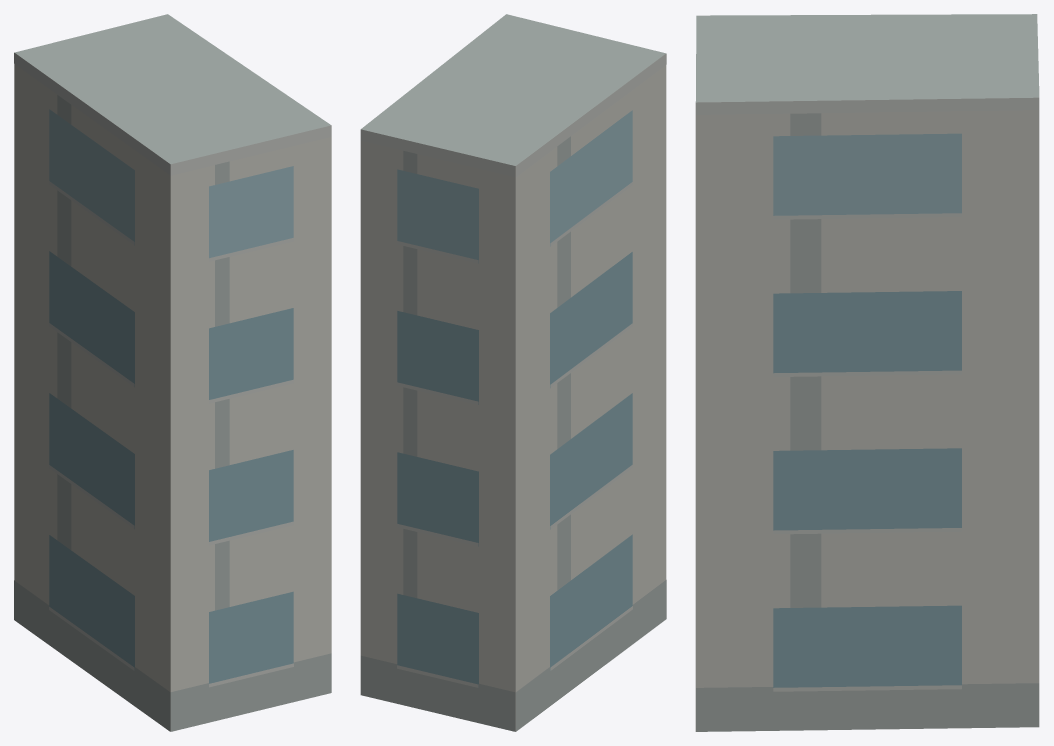
Rendered from survey-upis-32623372.glb.
3 renders of one model, left to right at view 1: azimuth 30°, elevation 25°; view 2: azimuth 150°, elevation 25°; view 3: azimuth 270°, elevation 25°, orthographic. The views are drawn at different scales.
Visible parts, largest first — view 1: survey-upis-32623372.tmp; view 2: survey-upis-32623372.tmp; view 3: survey-upis-32623372.tmp.
Boxes of the visible parts, x1,y1,x2,y2 form: survey-upis-32623372.tmp: (14, 14, 331, 731); survey-upis-32623372.tmp: (360, 14, 666, 731); survey-upis-32623372.tmp: (695, 14, 1039, 731).
Bounding box in the file's own units: 3.69 × 12.2 × 6.06.
